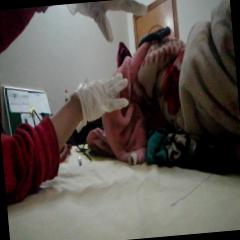gloved: (67, 0, 152, 48), (70, 73, 130, 120)
